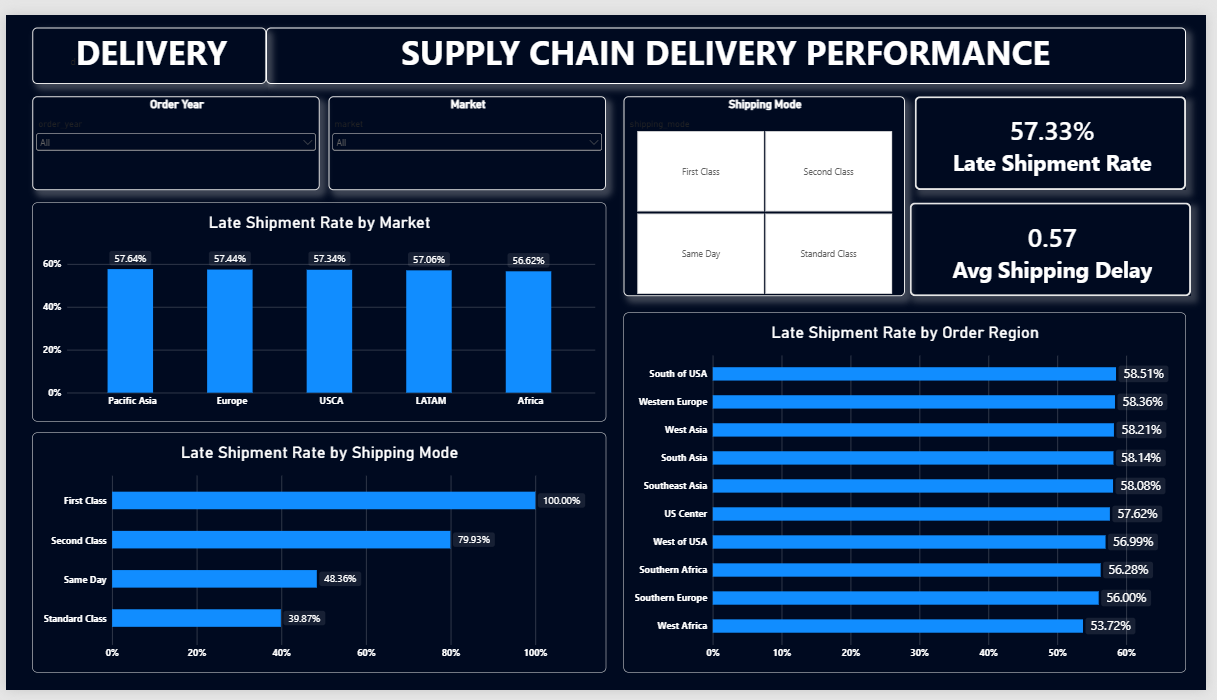

This screenshot's page, from the dashboard's own definition file:
{"tool":"powerbi","page":{"name":"Delivery","canvas":[1920,1080],"ordinal":1},"visuals":[{"type":"cardVisual","fields":{"Data":["dataco vw_delivery_performance.Late Shipment Rate"]},"box":[1454.3,130,434.1,150],"z":0},{"type":"cardVisual","fields":{"Data":["dataco vw_delivery_performance.Avg Shipping Delay"]},"box":[1446.3,300.1,450.1,150],"z":1000},{"type":"clusteredBarChart","title":"Late Shipment Rate by Order Region","fields":{"Category":["dataco vw_delivery_performance.order_region"],"Y":["dataco vw_delivery_performance.Late Shipment Rate"]},"box":[988.2,476.1,900.2,576.1],"z":2000},{"type":"clusteredColumnChart","title":"Late Shipment Rate by Market","fields":{"Category":["dataco vw_delivery_performance.market"],"Y":["dataco vw_delivery_performance.Late Shipment Rate"]},"box":[42,300.1,918.2,350.1],"z":3000},{"type":"clusteredBarChart","title":"Late Shipment Rate by Shipping Mode","fields":{"Category":["dataco vw_delivery_performance.shipping_mode"],"Y":["dataco vw_delivery_performance.Late Shipment Rate"]},"box":[42,668.1,918.2,384.1],"z":4000},{"type":"slicer","title":"Order Year","fields":{"Values":["dataco vw_delivery_performance.order_year"]},"box":[42,130,460.1,150],"z":5000},{"type":"slicer","title":"Market","fields":{"Values":["dataco vw_delivery_performance.market"]},"box":[516.1,130,444.1,150],"z":6000},{"type":"slicer","title":"Shipping Mode","fields":{"Values":["dataco vw_delivery_performance.shipping_mode"]},"box":[988.2,130,450.1,320.1],"z":7000},{"type":"textbox","box":[42,20,374,90],"z":8000},{"type":"textbox","box":[416.1,20,1472.3,90],"z":9000}]}

Visuals, with their boxes in screenshot pixels (x1, y1, x2, y2), scaled from the page's 1920x1080 canvas onto the 1217x700 screenshot:
cardVisual - dataco vw_delivery_performance.Late Shipment Rate: region(922, 84, 1197, 181)
cardVisual - dataco vw_delivery_performance.Avg Shipping Delay: region(917, 195, 1202, 292)
"Late Shipment Rate by Order Region" clusteredBarChart: region(626, 309, 1197, 682)
"Late Shipment Rate by Market" clusteredColumnChart: region(27, 195, 609, 421)
"Late Shipment Rate by Shipping Mode" clusteredBarChart: region(27, 433, 609, 682)
"Order Year" slicer: region(27, 84, 318, 181)
"Market" slicer: region(327, 84, 609, 181)
"Shipping Mode" slicer: region(626, 84, 912, 292)
textbox: region(27, 13, 264, 71)
textbox: region(264, 13, 1197, 71)
